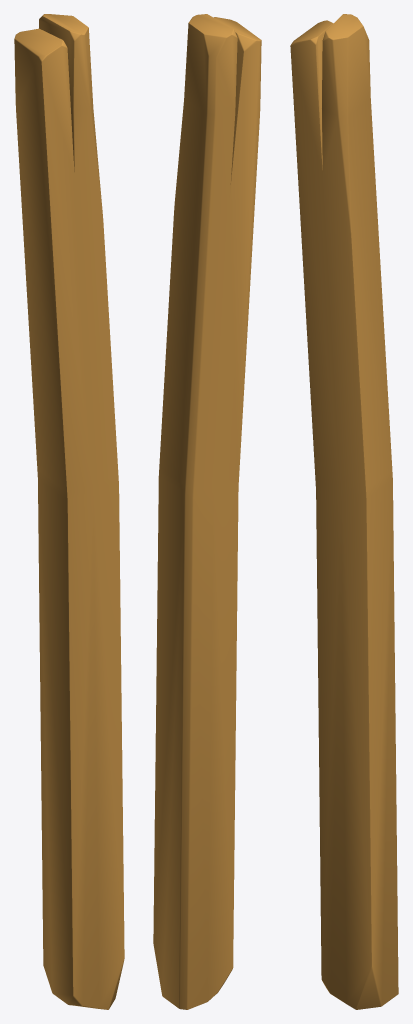
File: Module_Timber_Support.fbx
3 views of the same model, side by side, from view 1: azimuth 30°, elevation 25°; view 2: azimuth 210°, elevation 25°; view 3: azimuth 330°, elevation 25° (orthographic).
Visible parts, largest first — view 1: Module_Timber_Support_Geometry; view 2: Module_Timber_Support_Geometry; view 3: Module_Timber_Support_Geometry.
Boxes of the visible parts, x1,y1,x2,y2 form: Module_Timber_Support_Geometry: [14, 14, 124, 1009]; Module_Timber_Support_Geometry: [153, 14, 261, 1009]; Module_Timber_Support_Geometry: [290, 14, 398, 1009].
Bounding box in the file's own units: 0.4362 × 4.91 × 0.2712.
